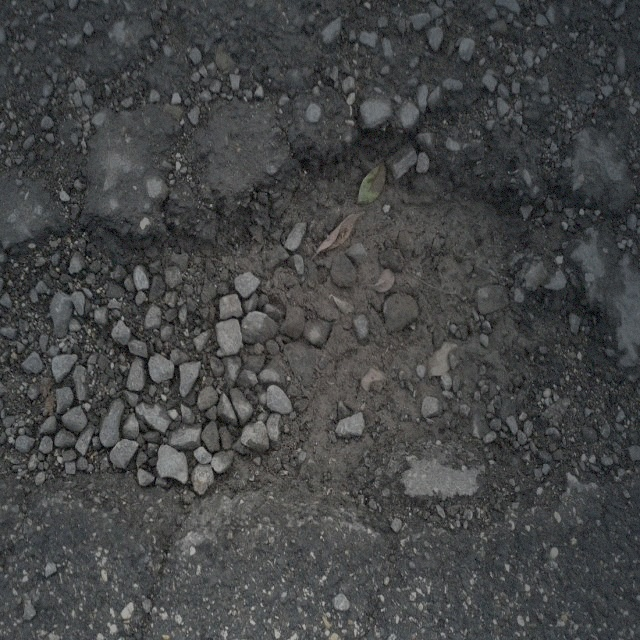pothole: (146, 108, 592, 444)
